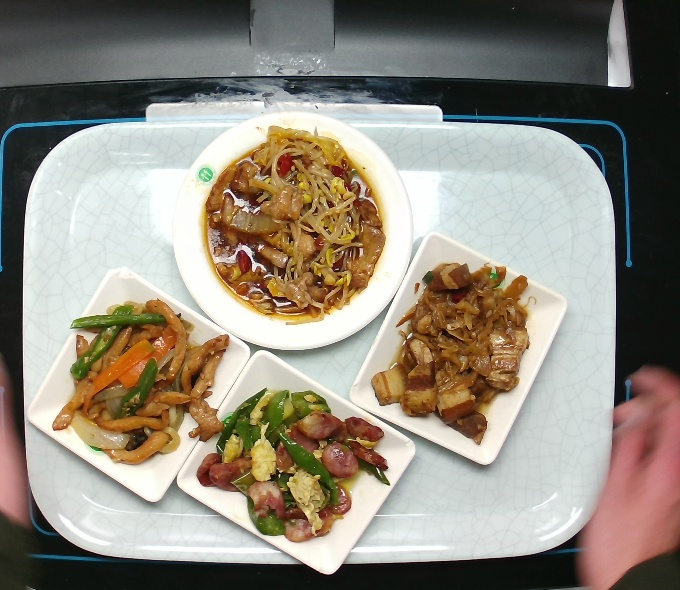wcq-HongShaoRou: (366, 257, 540, 449)
wcq-QingJiaoChaoDaChang: (192, 385, 396, 546)
wcq-QingJiaoRouSi: (50, 293, 235, 470)
wcq-ShuiZhuRouPian: (197, 124, 391, 330)
